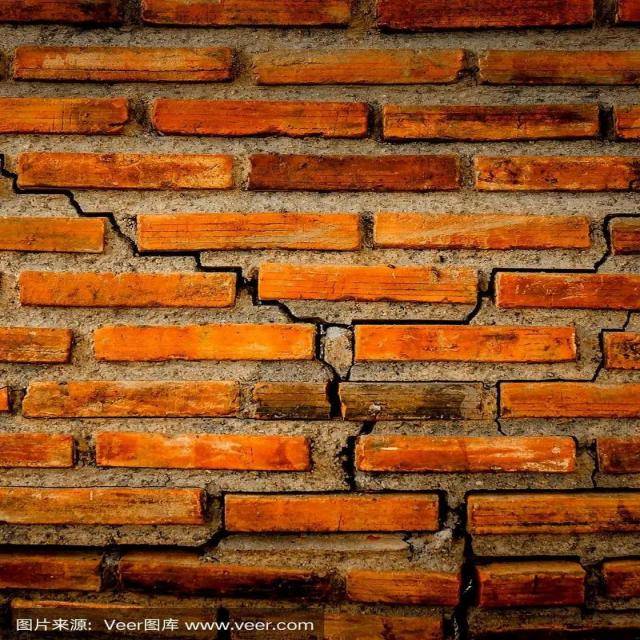brack_crack: (1, 151, 324, 328), (333, 205, 640, 331), (491, 306, 640, 445), (310, 327, 390, 492), (431, 505, 488, 640), (557, 430, 618, 487)
